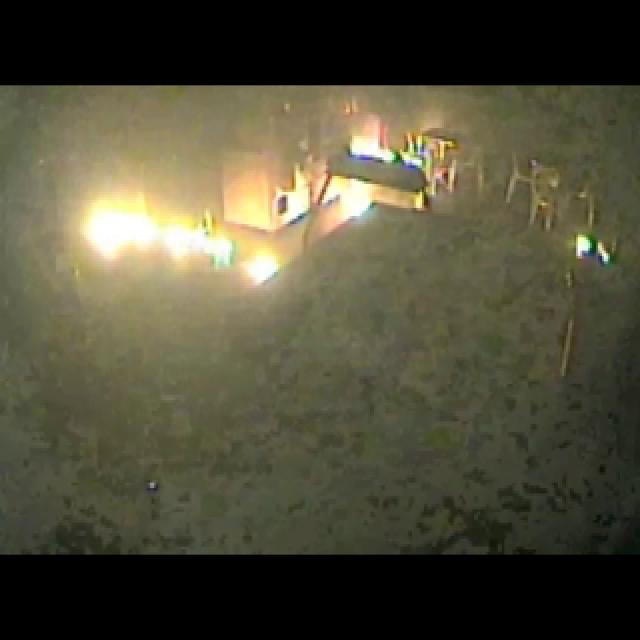arson: (22, 81, 627, 372)
